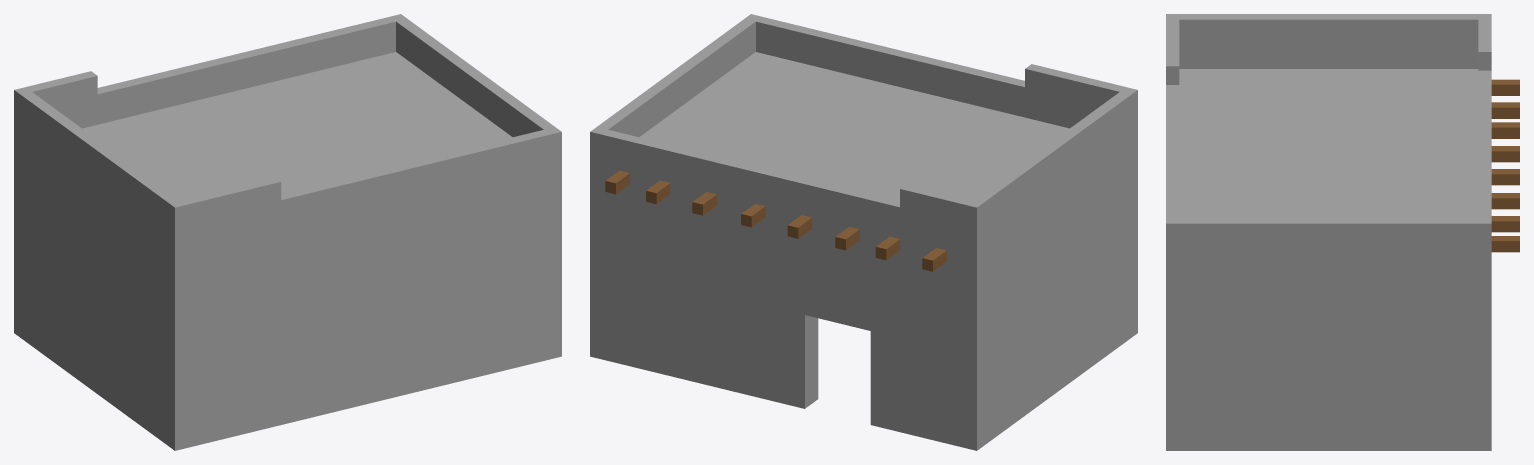
File: Casa1.fbx
3 views of the same model, side by side, from view 1: azimuth 30°, elevation 25°; view 2: azimuth 150°, elevation 25°; view 3: azimuth 270°, elevation 25° (orthographic).
Parts seen in each view (by area): view 1: Casa1; view 2: Casa1; view 3: Casa1.
Part boxes in pixels (<box>): Casa1: <box>14,14,561,450</box>; Casa1: <box>590,14,1137,450</box>; Casa1: <box>1166,14,1519,450</box>.
Size of the model in its own units: 16406 by 9861 by 12848.
